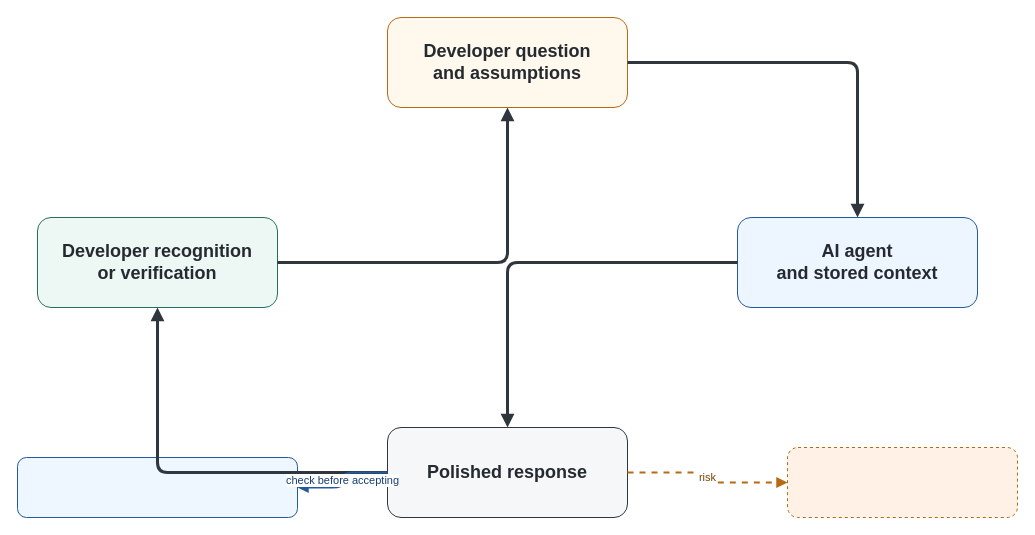
Image size: 1035x535. Some labels were removed from this diagram. Each missing label, with the centre of its shape:
Evidence · objections · falsification: point (157, 487)
Unsupported agreement: point (902, 482)
